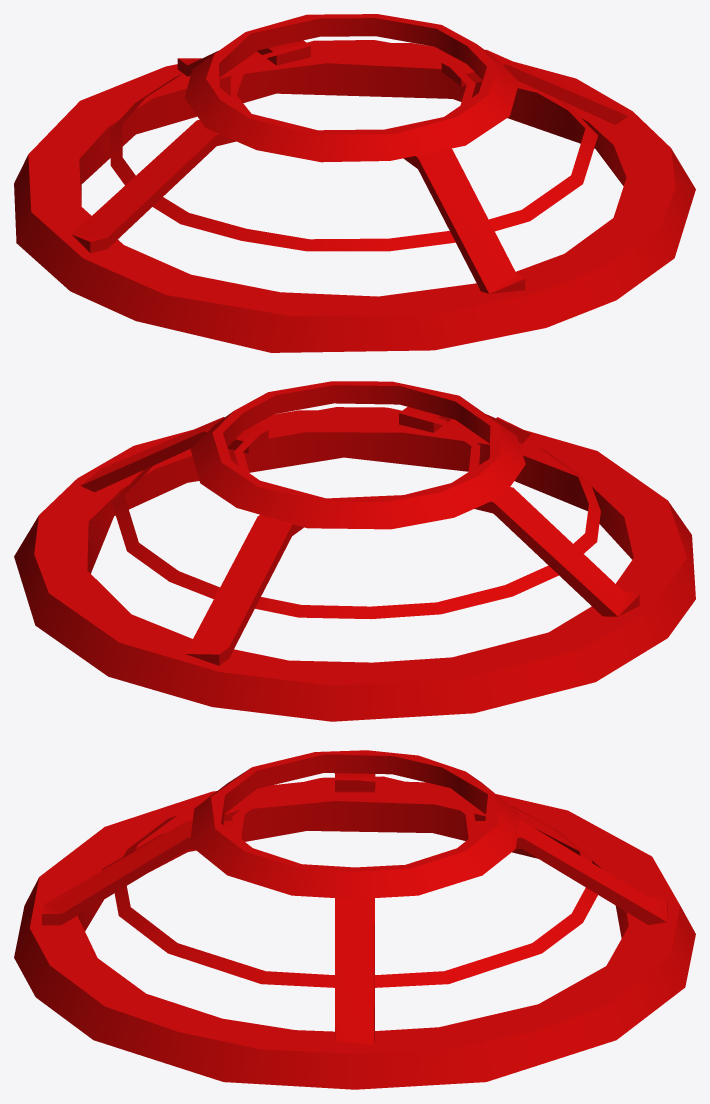
3 renders of one model, top to bottom at view 1: azimuth 30°, elevation 25°; view 2: azimuth 150°, elevation 25°; view 3: azimuth 270°, elevation 25°, orthographic.
Parts seen in each view (by area): view 1: Mesh; view 2: Mesh; view 3: Mesh.
Boxes of the visible parts, x1,y1,x2,y2 form: Mesh: (14, 14, 695, 352); Mesh: (14, 381, 695, 721); Mesh: (14, 750, 695, 1089).
Size of the model in its own units: 4.82 by 1.06 by 4.83.
